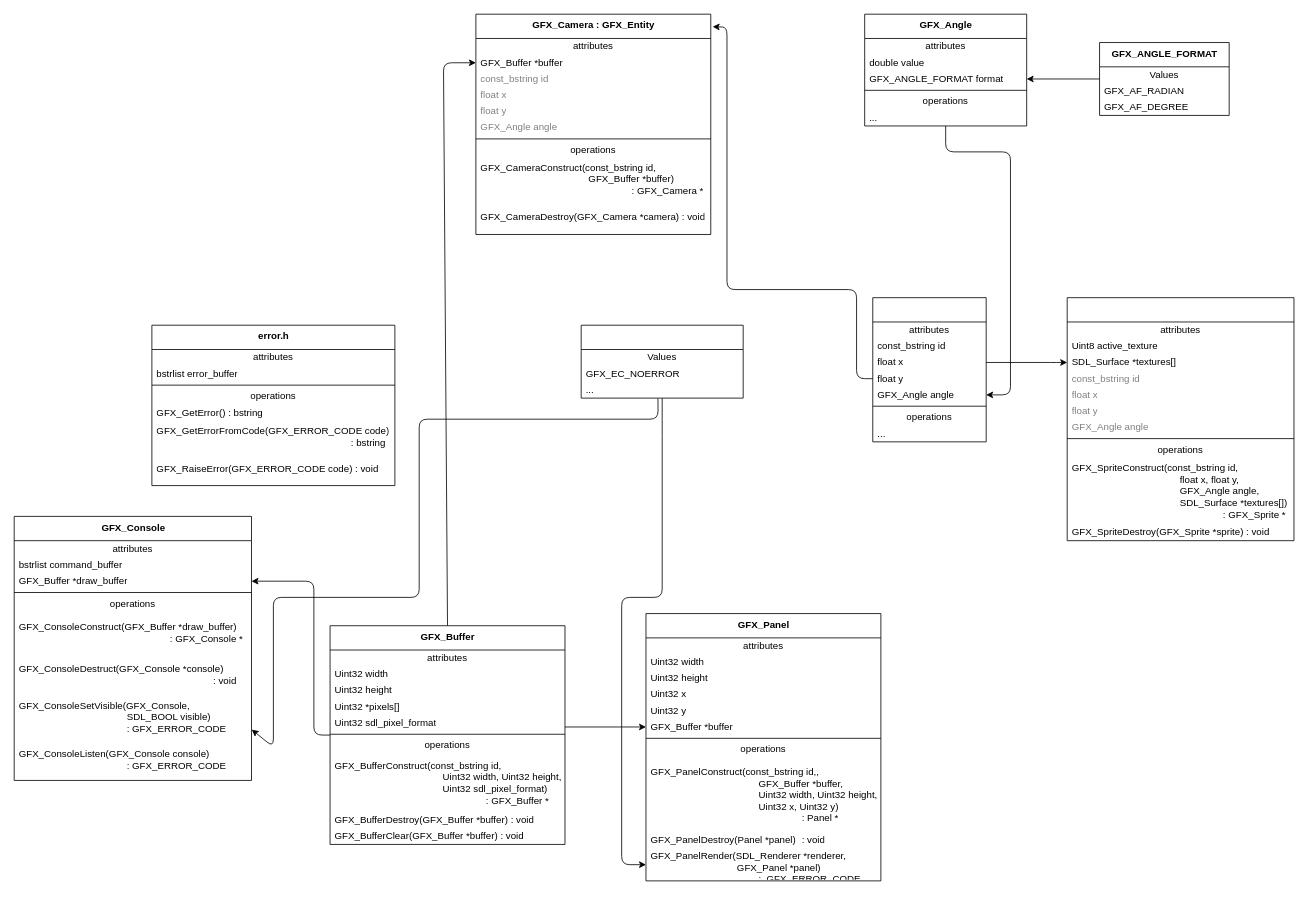
The diagram is 1308 pixels wide and 898 high, and some of its shapes have lost their labels. Here are the shapes that lost their labels. From the top down, the box of each, then its label:
(580, 324, 743, 398): GFX_ERROR_CODE
(872, 297, 986, 442): GFX_Entity
(1066, 297, 1294, 541): GFX_Sprite : GFX_Entity
